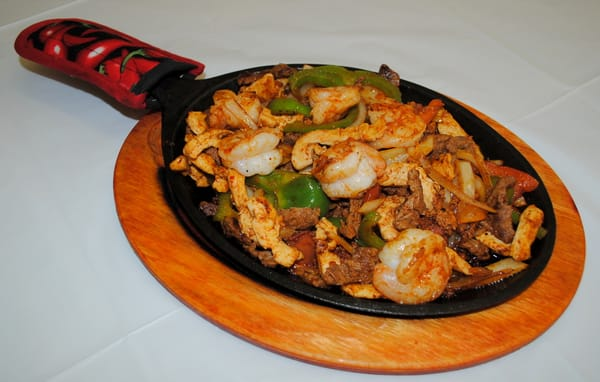curry: (1, 12, 585, 371)
